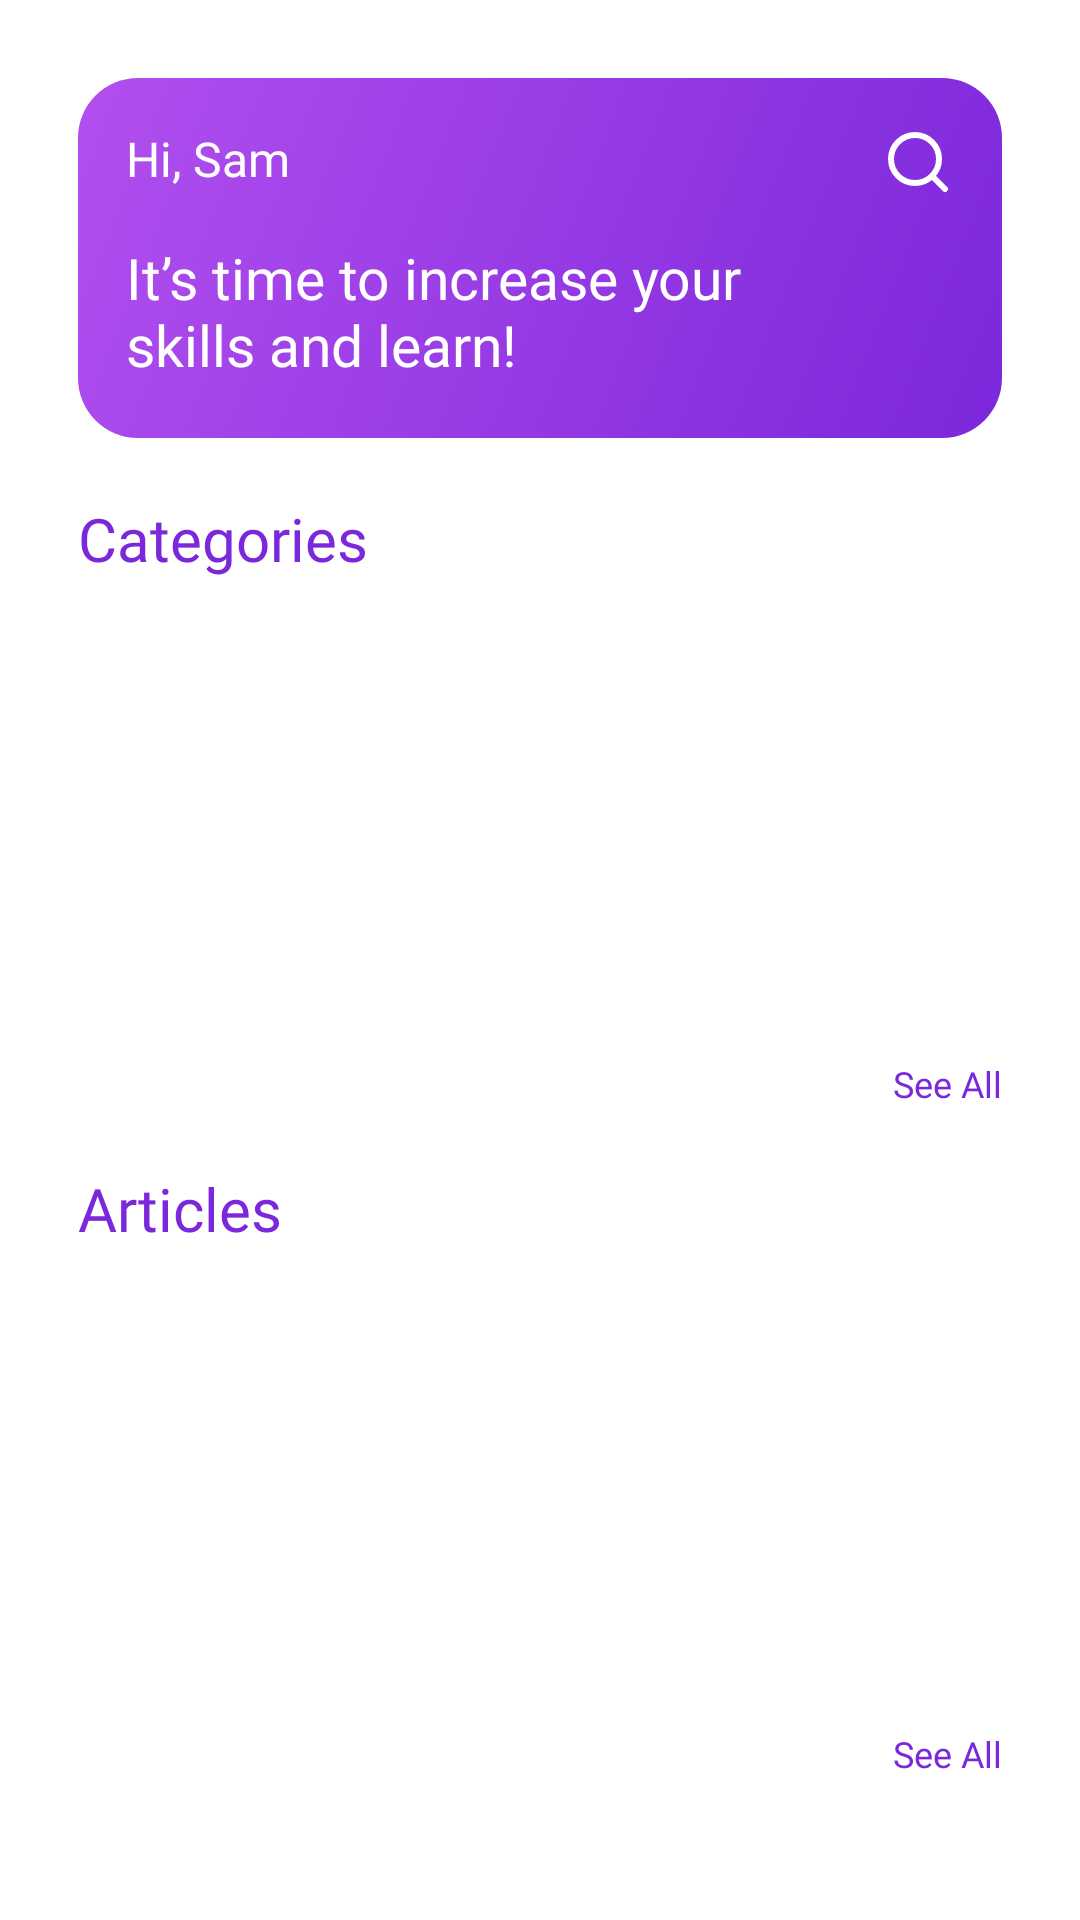

Named icons in this screenshot (1080px×1920px) and their centers, (x=x, y=y):
search: (x=918, y=162)
